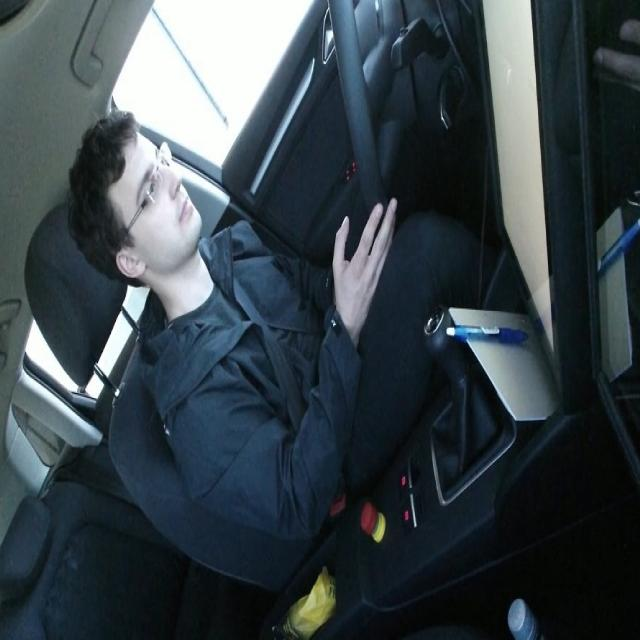pen: (446, 322, 528, 344)
